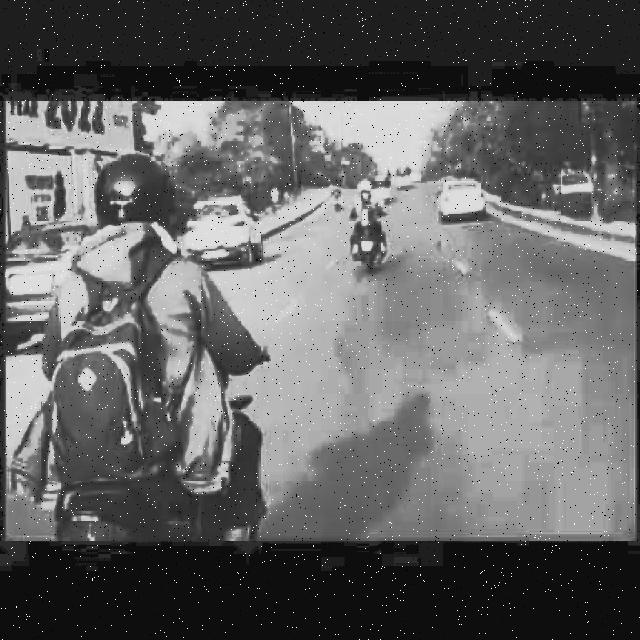Car: (189, 185, 269, 269), (0, 224, 75, 301), (430, 172, 486, 228)
